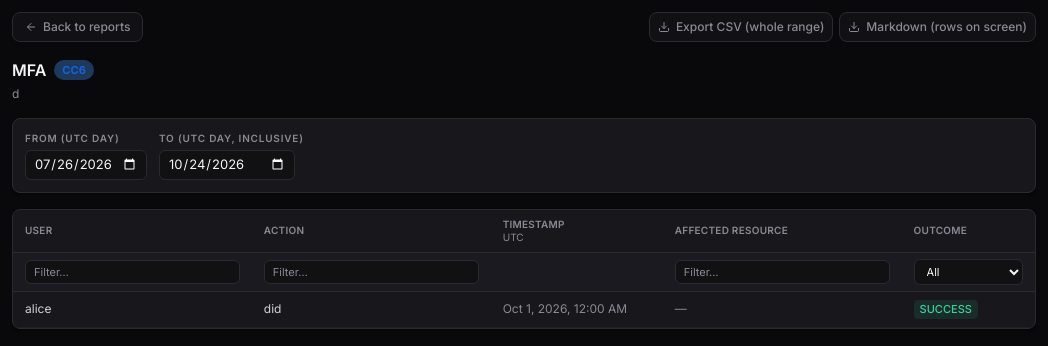
Test: ComplianceReportDetail › From after To: no query, no stale rows, a clear message
Check: the text "alice" is shown, box left=13, top=292, right=252, bottom=327
Type "2999-01-01" into the date field labelled "From (UTC day)" at (86, 165), box left=25, top=150, right=147, bottom=180
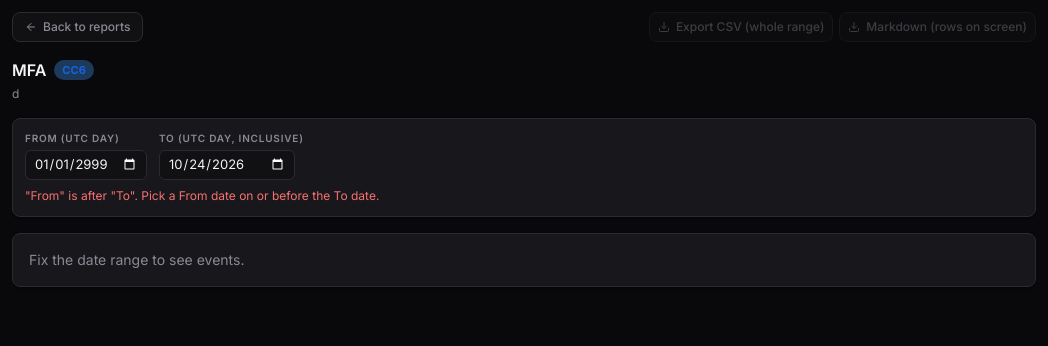
Check: the text "Fix the date range to see events." is shown, box left=29, top=250, right=244, bottom=268
Check: the text "alice" is gone
